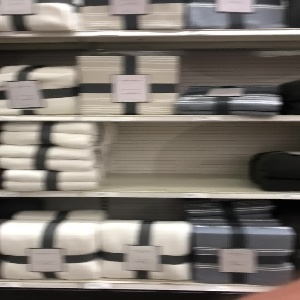void: (105, 121, 254, 192)
